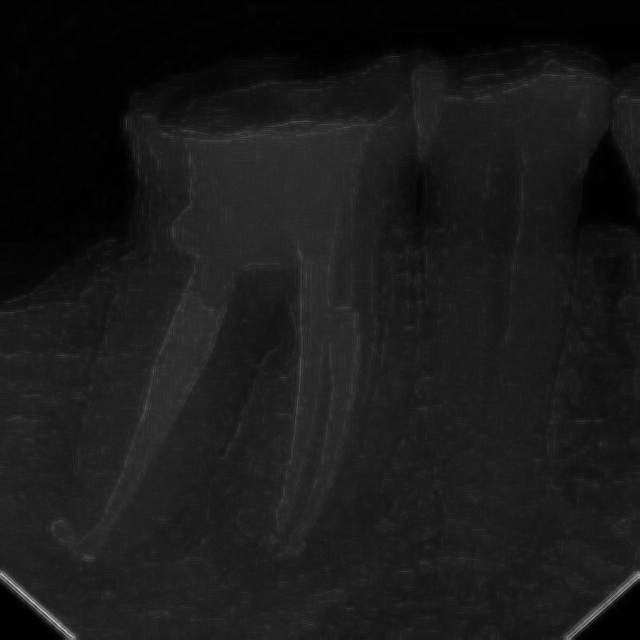Class 0- No endodontic treatment: (47, 185, 401, 596)
cavity: (387, 109, 614, 621)
